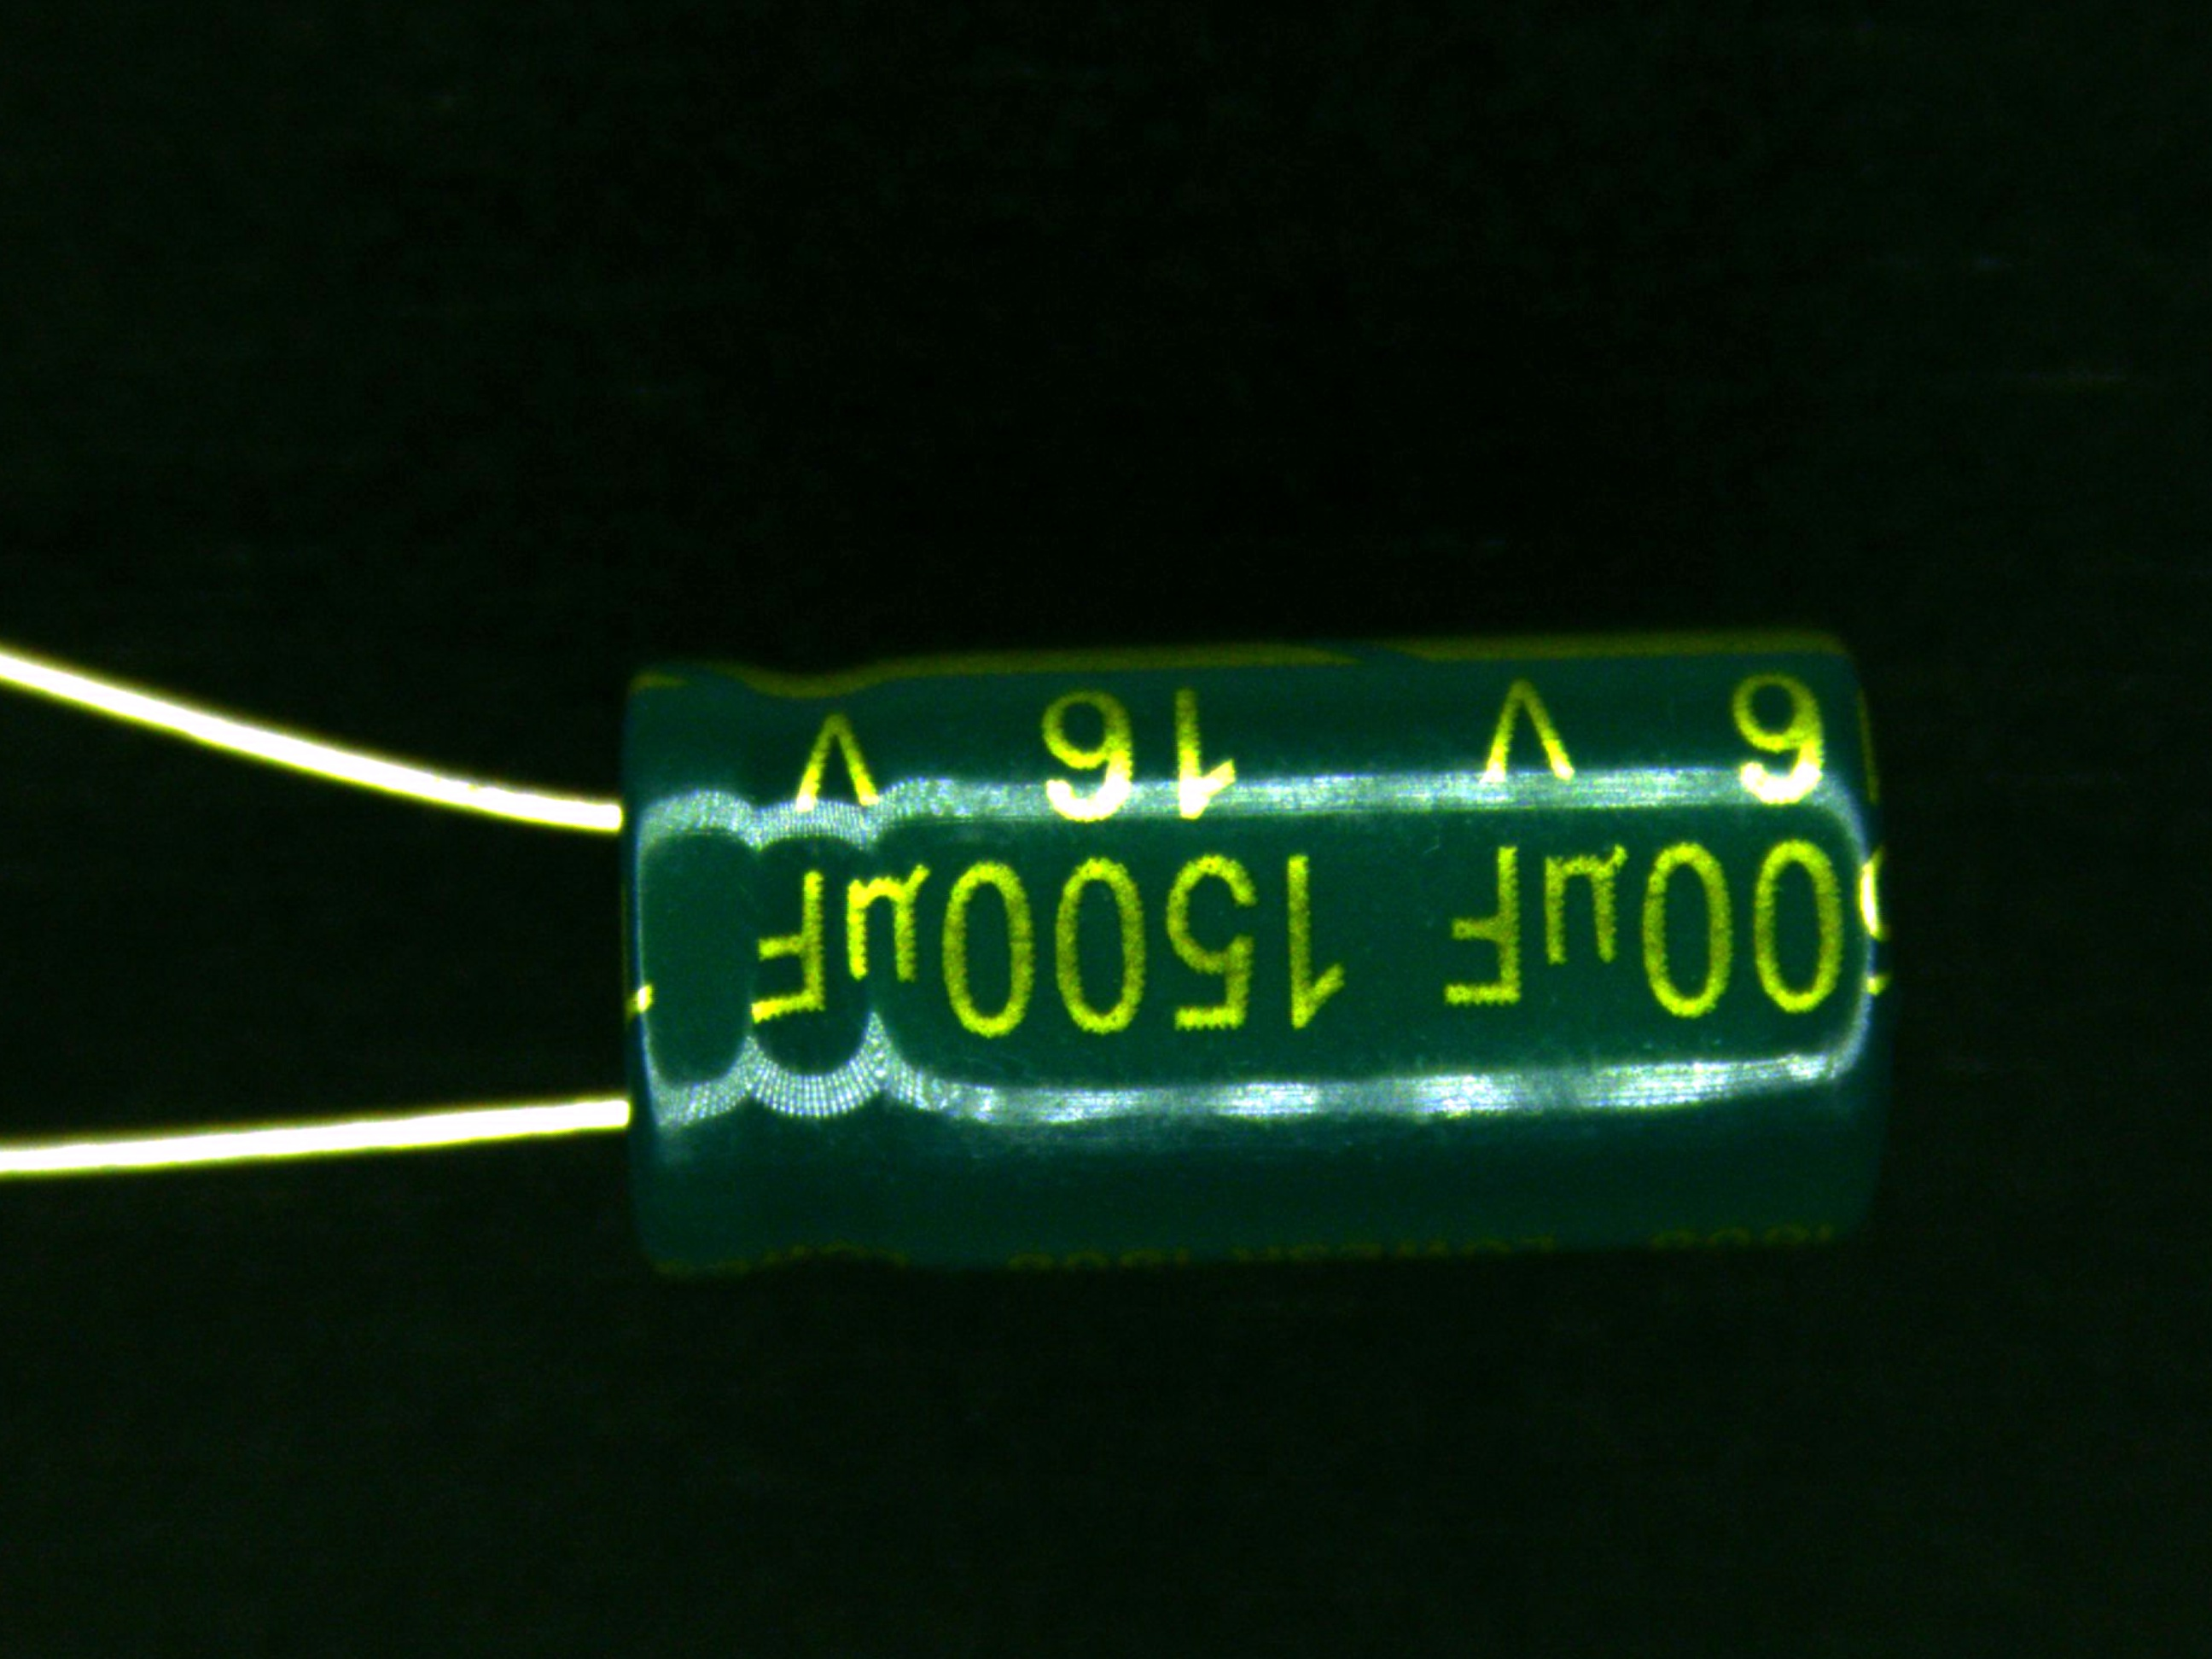c1: (345, 636, 1900, 1274)
